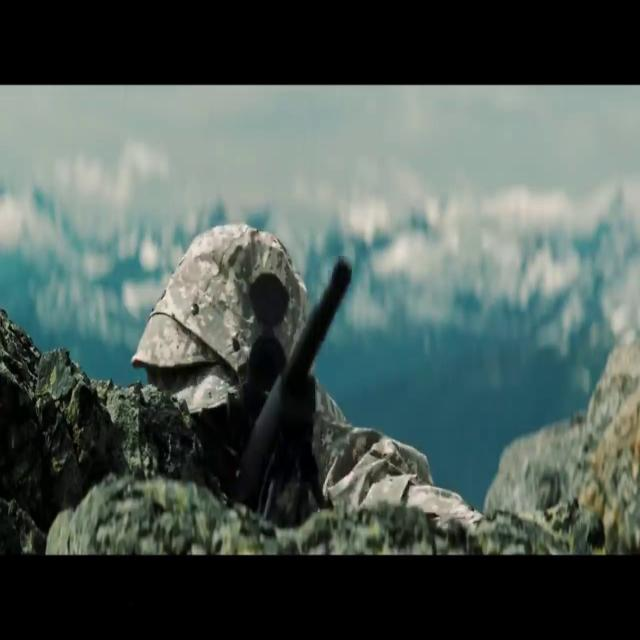Human: (130, 223, 483, 521)
